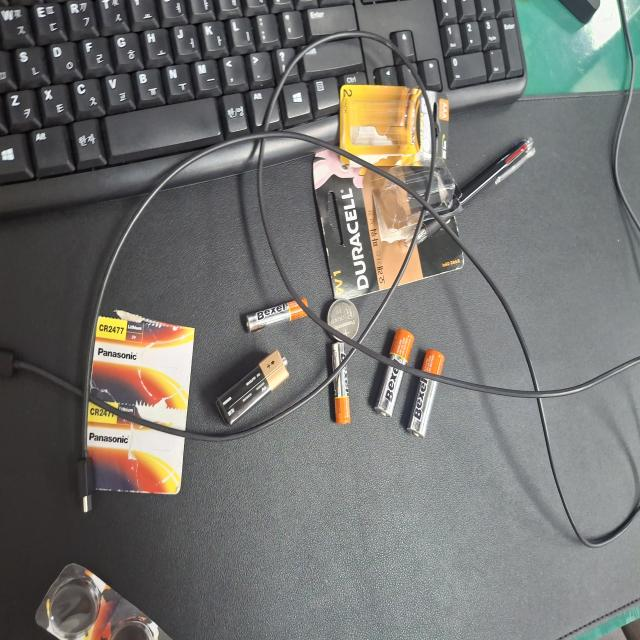9V: (261, 466, 319, 564)
AA: (246, 302, 315, 356), (261, 260, 328, 312)
AAA: (222, 441, 249, 526), (256, 384, 319, 412)
COIN: (223, 374, 255, 418)
